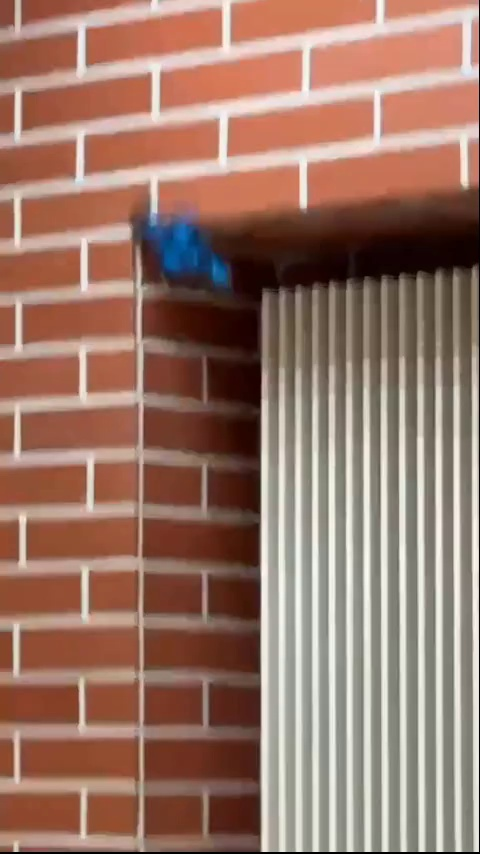drone: (133, 209, 257, 295)
